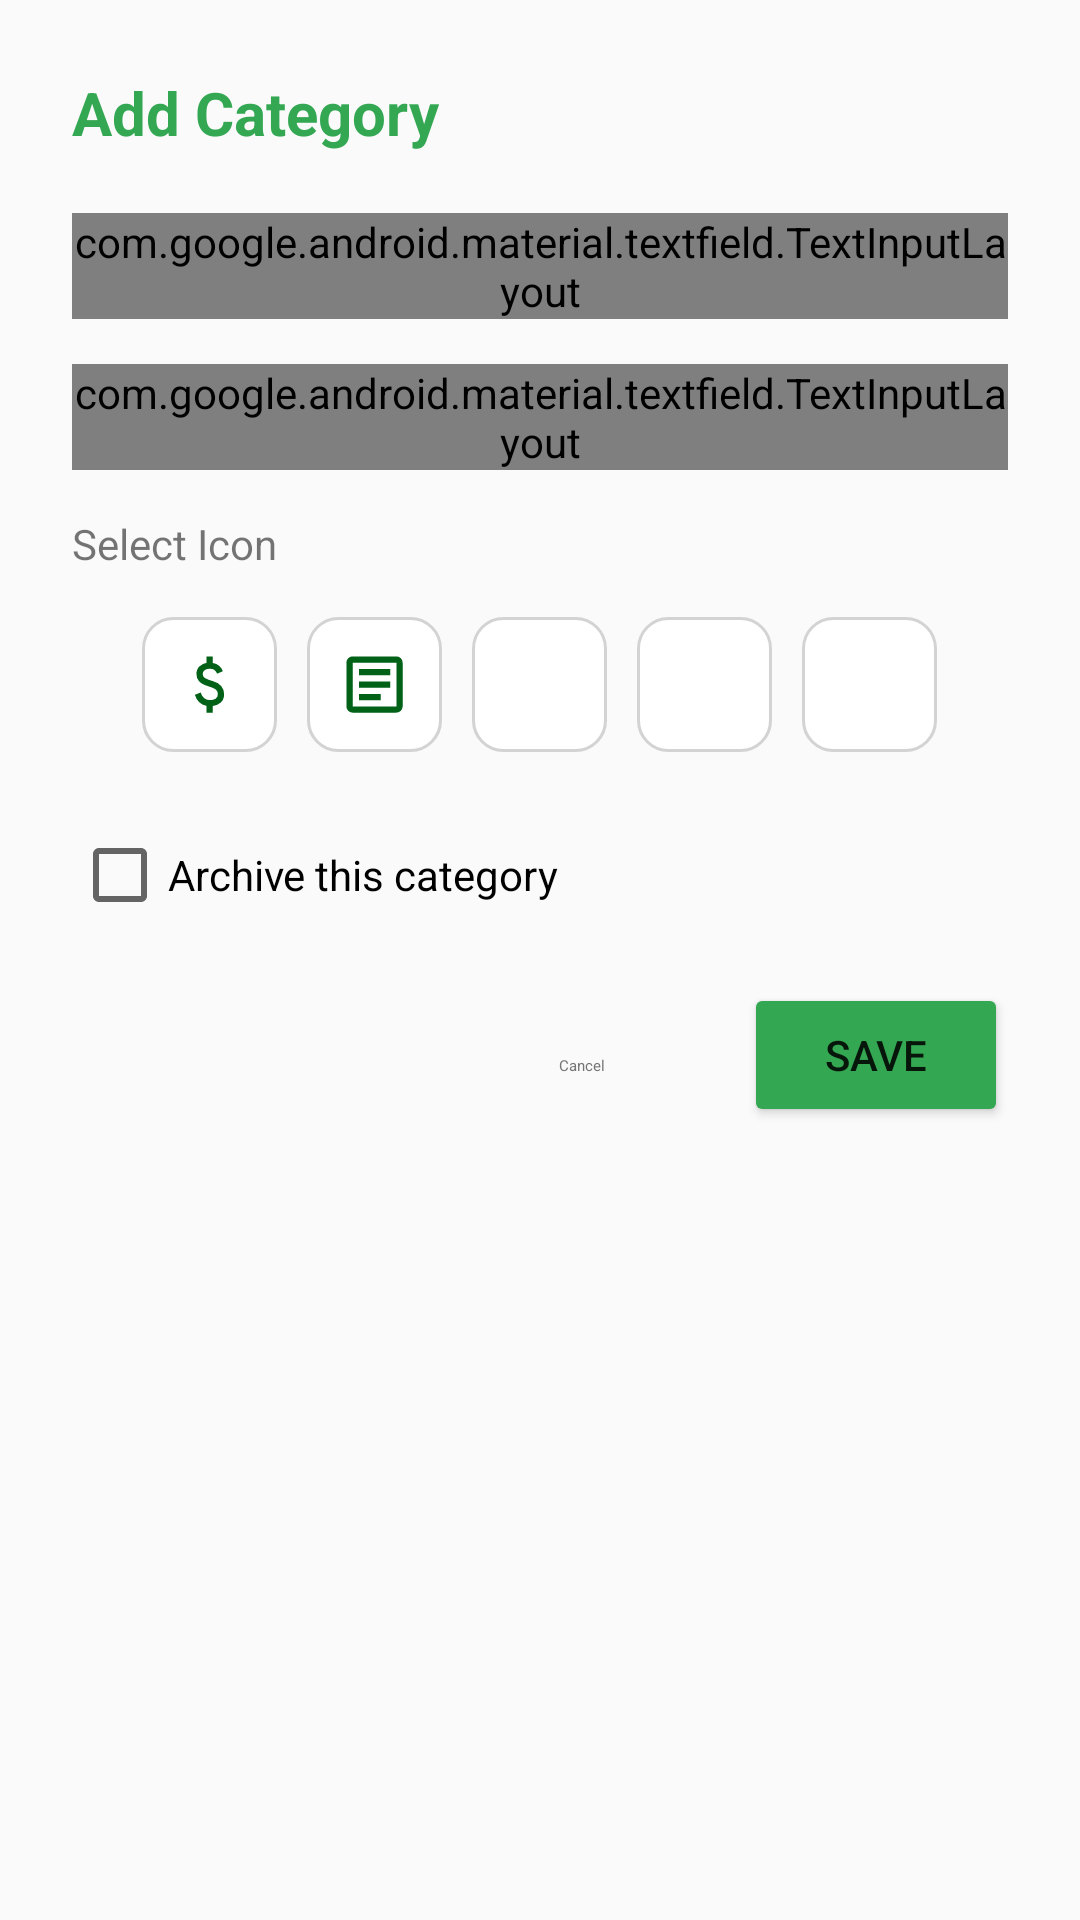

Icon bounding boxes for this 1080 x 1920 phone screenshot, format rect(x1, y1, x2, y2):
cash: rect(142, 617, 277, 752)
sheet: rect(307, 617, 442, 752)
